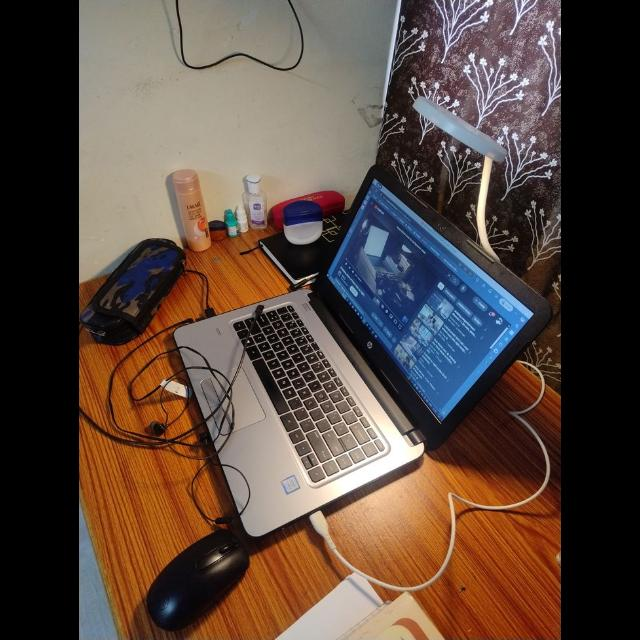laptop: (175, 167, 551, 536)
